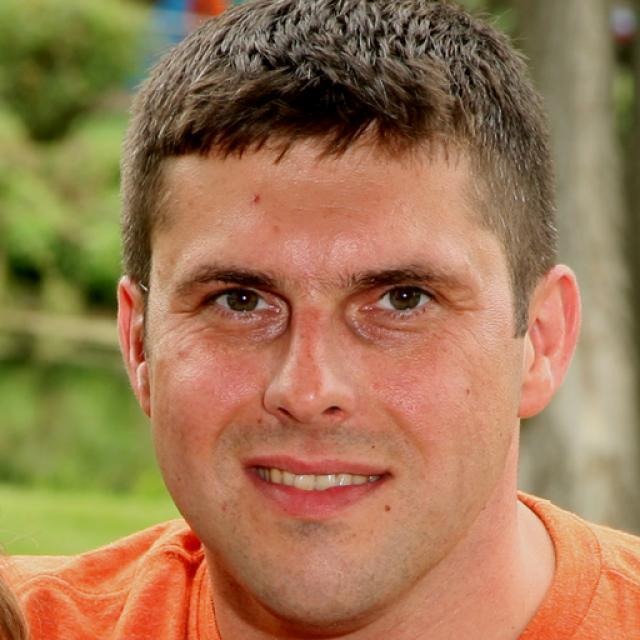content: (146, 106, 520, 622)
